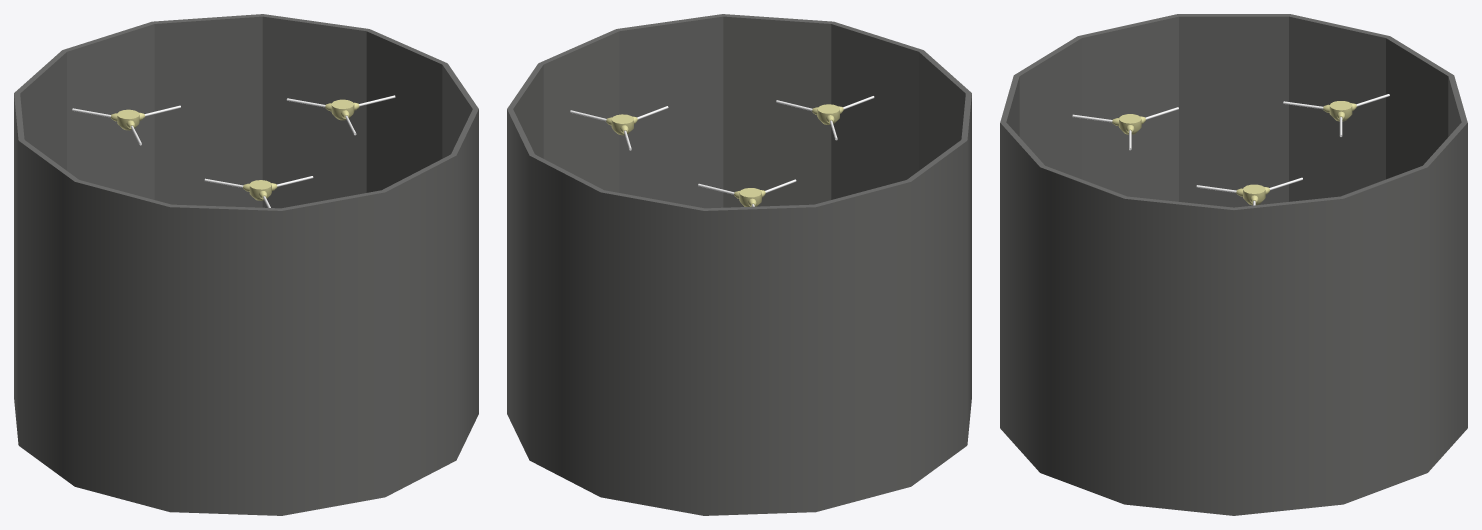
Rendered from uv lighyt.fbx.
The picture shows the model from 3 angles, left to right: view 1: azimuth 30°, elevation 25°; view 2: azimuth 150°, elevation 25°; view 3: azimuth 270°, elevation 25°; orthographic projection.
Parts seen in each view (by area): view 1: uv_light4; view 2: uv_light4; view 3: uv_light4.
Boxes of the visible parts, x1,y1,x2,y2 form: uv_light4: (14,14,478,515); uv_light4: (507,14,971,515); uv_light4: (1000,14,1467,515).
Size of the model in its own units: 7.43 by 5.4 by 7.48.
